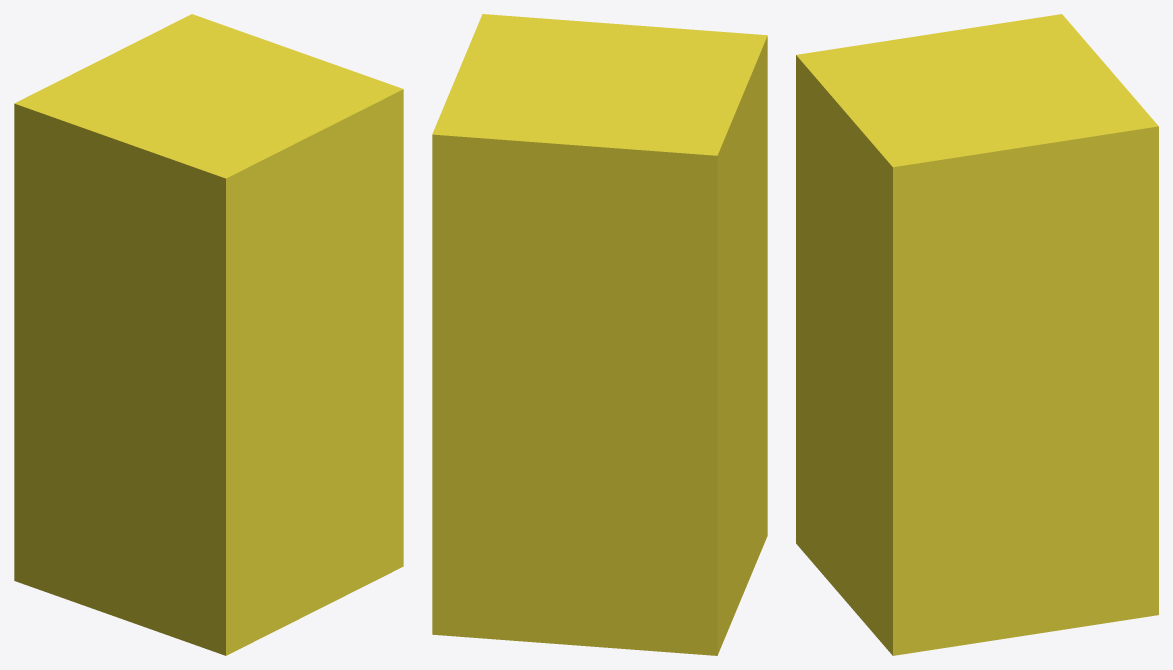
The picture shows the model from 3 angles, left to right: view 1: azimuth 30°, elevation 25°; view 2: azimuth 150°, elevation 25°; view 3: azimuth 270°, elevation 25°; orthographic projection. The views are drawn at different scales.
Parts seen in each view (by area): view 1: 3????D1035; view 2: 3????D1035; view 3: 3????D1035.
Boxes of the visible parts, <box> form: 3????D1035: <box>14,14,403,655</box>; 3????D1035: <box>432,14,767,655</box>; 3????D1035: <box>796,14,1158,655</box>.
Bounding box in the file's own units: 2.69 × 4 × 2.69.
